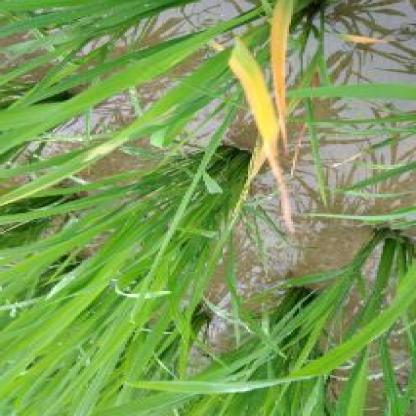Tungro: (235, 1, 298, 195)
